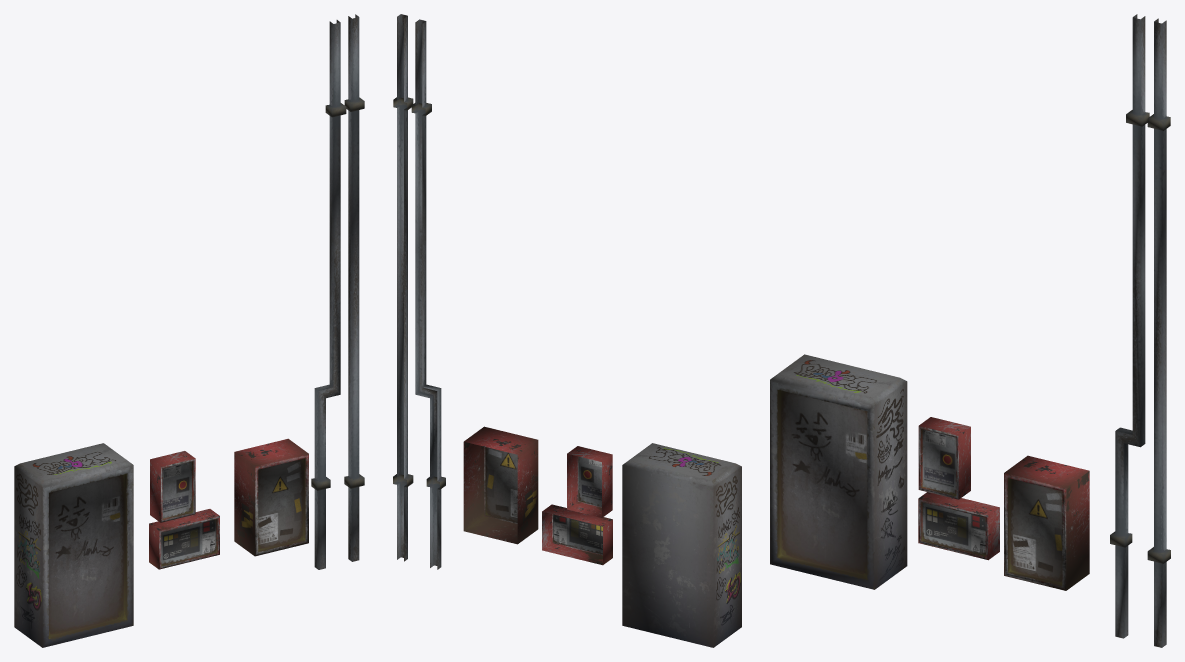
The model's file is electric boxes.fbx.
The picture shows the model from 3 angles, left to right: view 1: azimuth 30°, elevation 25°; view 2: azimuth 150°, elevation 25°; view 3: azimuth 330°, elevation 25°; orthographic projection. The views are drawn at different scales.
Parts seen in each view (by area): view 1: electric_ground_box_01, electric_wall_box_01, metal_pipe_02, metal_pipe_01, electric_wall_ui_01, electric_wall_ui_02; view 2: electric_ground_box_01, electric_wall_box_01, metal_pipe_02, metal_pipe_01, electric_wall_ui_01, electric_wall_ui_02; view 3: electric_ground_box_01, electric_wall_box_01, metal_pipe_02, metal_pipe_01, electric_wall_ui_01, electric_wall_ui_02.
Boxes of the visible parts, bbox=[...] form: electric_ground_box_01: bbox=[14, 443, 133, 647]; electric_wall_box_01: bbox=[234, 438, 308, 556]; metal_pipe_02: bbox=[311, 20, 346, 569]; metal_pipe_01: bbox=[344, 14, 364, 561]; electric_wall_ui_01: bbox=[149, 509, 219, 569]; electric_wall_ui_02: bbox=[150, 451, 195, 522]; electric_ground_box_01: bbox=[622, 443, 741, 647]; electric_wall_box_01: bbox=[463, 426, 538, 544]; metal_pipe_02: bbox=[411, 19, 445, 569]; metal_pipe_01: bbox=[393, 14, 413, 561]; electric_wall_ui_01: bbox=[542, 504, 612, 565]; electric_wall_ui_02: bbox=[567, 446, 612, 517]; electric_ground_box_01: bbox=[770, 354, 907, 589]; electric_wall_box_01: bbox=[1004, 455, 1089, 590]; metal_pipe_02: bbox=[1110, 14, 1149, 638]; metal_pipe_01: bbox=[1147, 18, 1170, 647]; electric_wall_ui_01: bbox=[918, 492, 999, 560]; electric_wall_ui_02: bbox=[918, 417, 970, 499].
Size of the model in its own units: 204 by 319 by 34.81.
